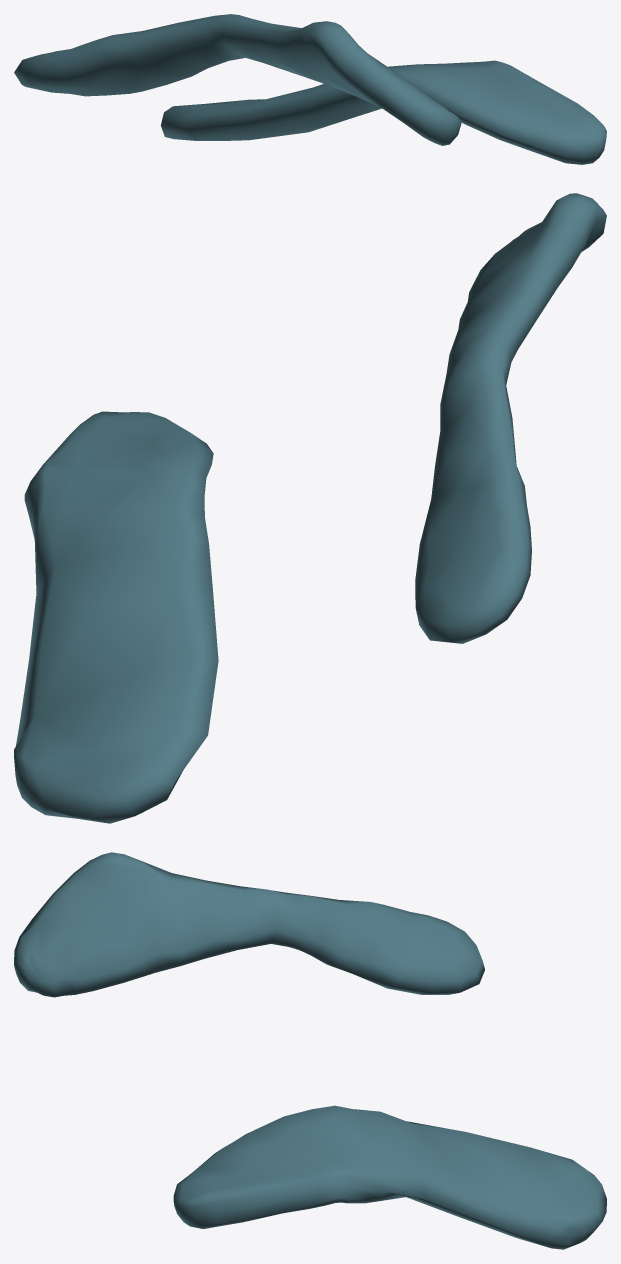
Rendered from Flexor_digitorum_brevis_4th_medial_phalanx_left.glb.
The picture shows the model from 3 angles, top to bottom: view 1: azimuth 30°, elevation 25°; view 2: azimuth 150°, elevation 25°; view 3: azimuth 270°, elevation 25°; orthographic projection. The views are drawn at different scales.
Visible parts, largest first — view 1: Flexor_digitorum_brevis_on_4th_medial_phalanx.l_Generated_Me; view 2: Flexor_digitorum_brevis_on_4th_medial_phalanx.l_Generated_Me; view 3: Flexor_digitorum_brevis_on_4th_medial_phalanx.l_Generated_Me.
Boxes of the visible parts, x1,y1,x2,y2 form: Flexor_digitorum_brevis_on_4th_medial_phalanx.l_Generated_Me: [14, 14, 606, 164]; Flexor_digitorum_brevis_on_4th_medial_phalanx.l_Generated_Me: [14, 193, 606, 823]; Flexor_digitorum_brevis_on_4th_medial_phalanx.l_Generated_Me: [14, 852, 606, 1249].
Bounding box in the file's own units: 0.00699 × 0.00479 × 0.00829.
